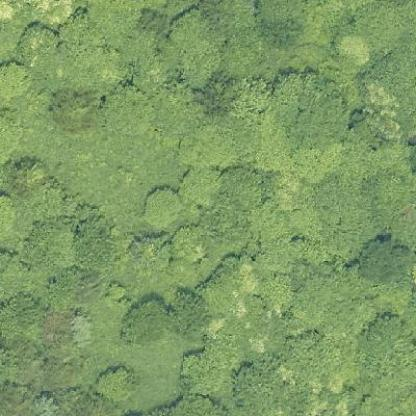tree-top: (266, 66, 354, 150), (355, 229, 415, 290), (53, 5, 110, 68), (110, 292, 166, 352), (45, 84, 102, 140), (166, 286, 218, 345), (136, 184, 198, 232), (86, 360, 144, 406)
